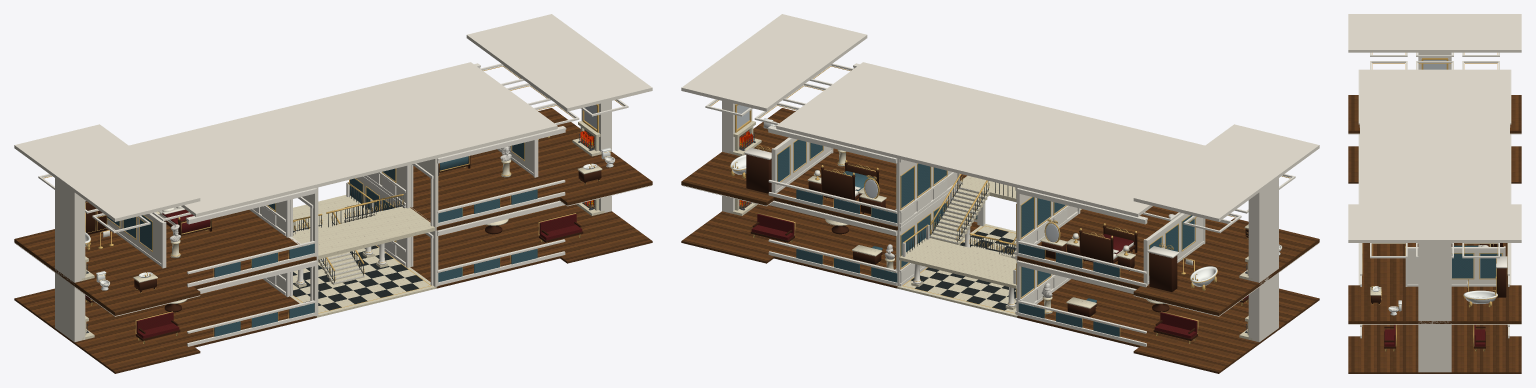
Rendered from interieur-sans-portes.fbx.
The picture shows the model from 3 angles, left to right: view 1: azimuth 30°, elevation 25°; view 2: azimuth 150°, elevation 25°; view 3: azimuth 270°, elevation 25°; orthographic projection. The views are drawn at different scales.
Visible parts, largest first — view 1: Interieur_Chateau; view 2: Interieur_Chateau; view 3: Interieur_Chateau.
Part boxes in pixels (x1,y1,x2,y2): Interieur_Chateau: [14, 14, 652, 373]; Interieur_Chateau: [681, 14, 1319, 373]; Interieur_Chateau: [1348, 14, 1521, 373].
Bounding box in the file's own units: 41.6 × 11.48 × 13.5.
